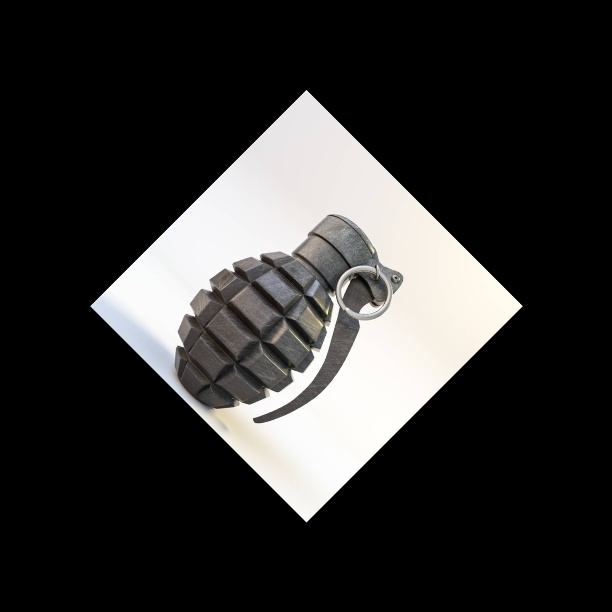e1: (173, 214, 407, 422)
